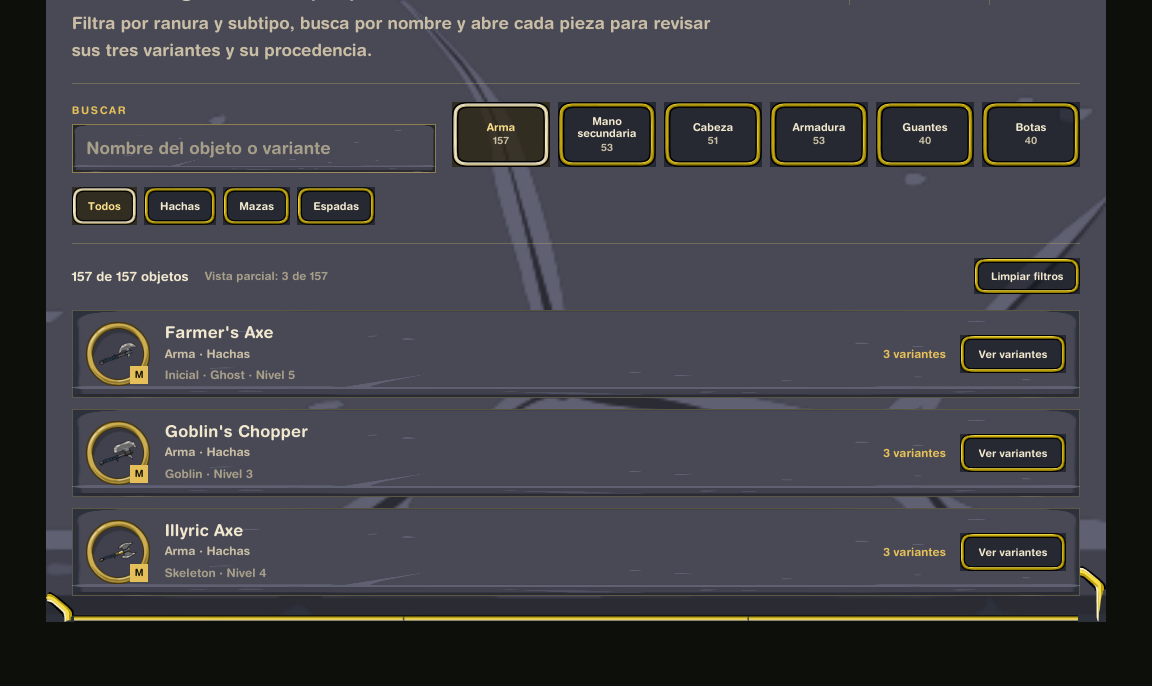
Scenario: ArmoryPage › expands variants and opens the source dialog from a variant
(page scrolled)
Check: the heading "Farmer's Axe" is shown, box [165,322,274,342]
What coordinates should you click on to do the following:
click the button "Ver variantes" in the row of "Inicial · Ghost · Nivel 5"
I would click on:
 (1013, 354)
Its box is [960,335,1066,373].
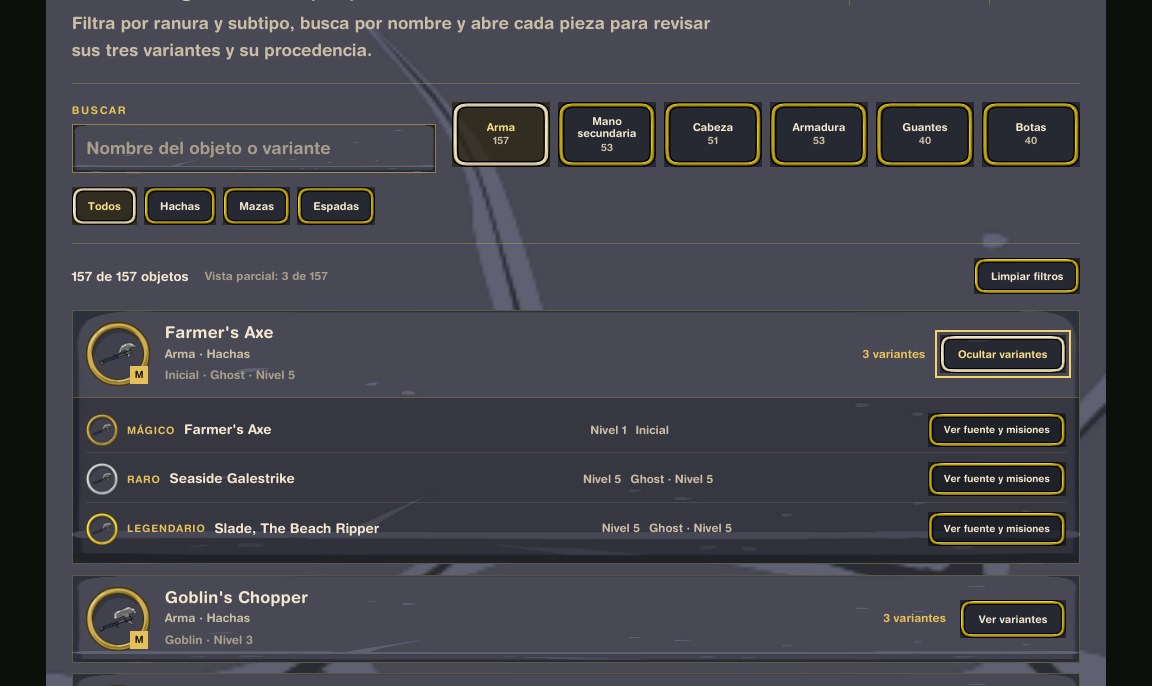
Check: the list item "Seaside Galestrike" is shown, box [170,470,295,486]
What coordinates should you click on to do the following:
click the button "Ver fuente y misiones" in the row of "Raro"
I would click on:
 (997, 479)
Its box is [928,462,1066,496].
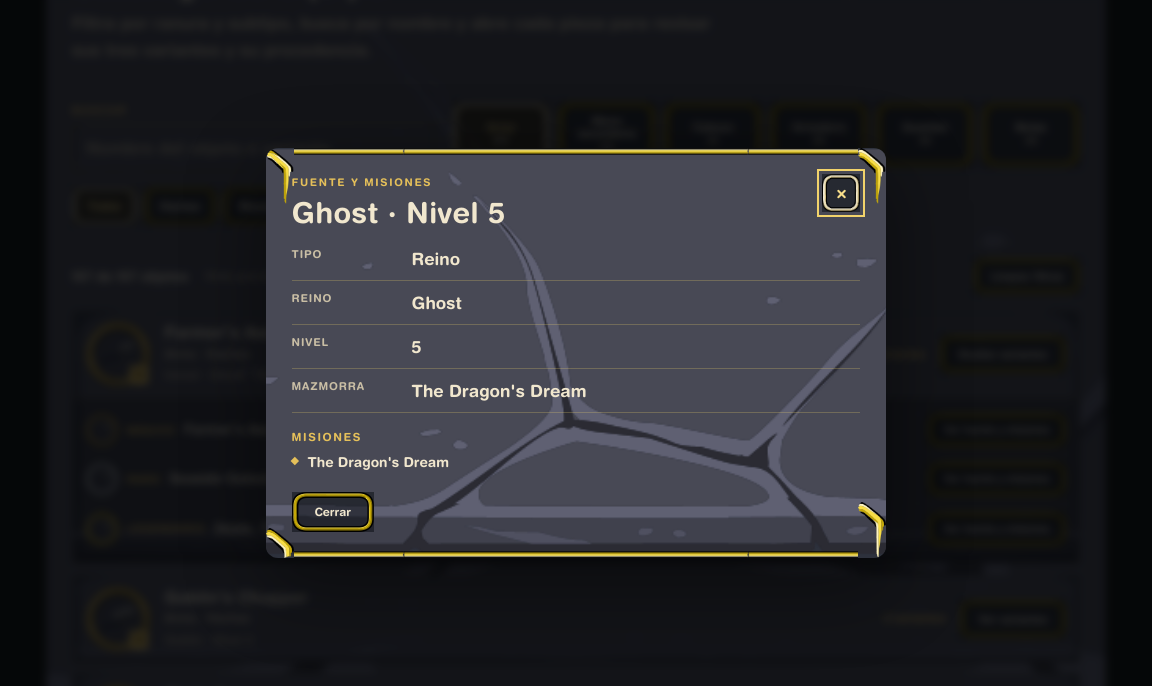
Check: the text "Fuente y misiones" is shown, box [292,176,432,188]
Check: the heading "Ghost · Nivel 5" is shown, box [292,196,506,228]
Check: the text "Ghost" is shown, box [412,293,462,313]
What coordinates should you click on to do the following:
click the button named "Cerrar"
I would click on:
 (841, 193)
Its box is [822,174,860,212].
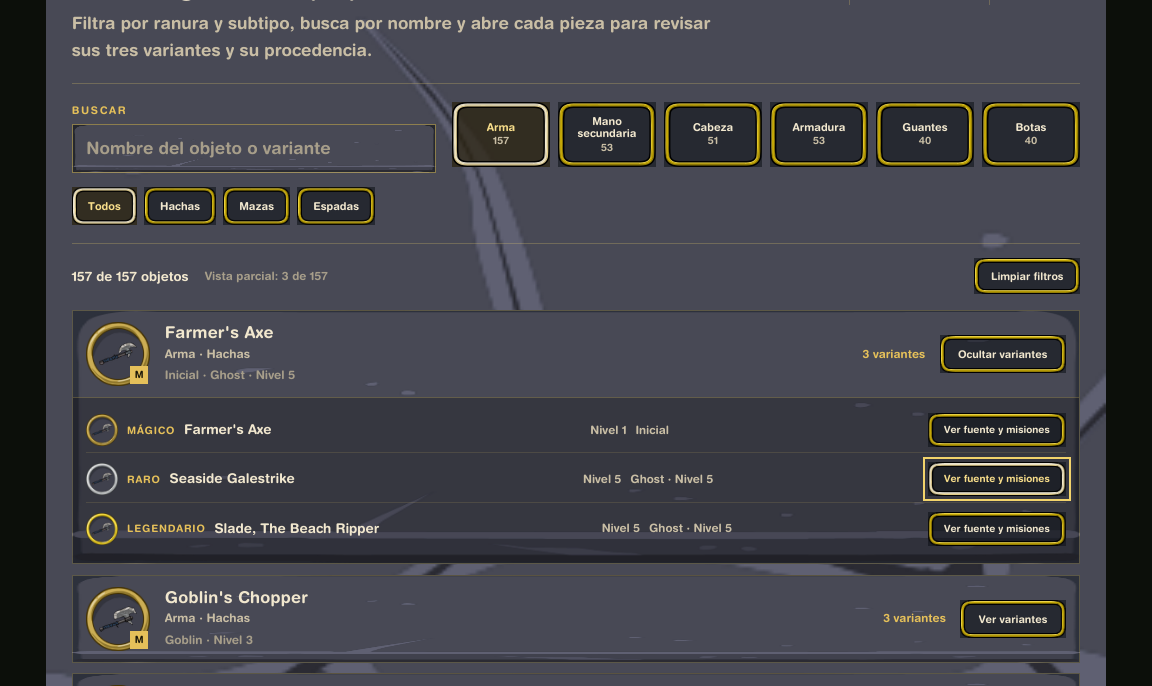
Check: the dialog is gone
